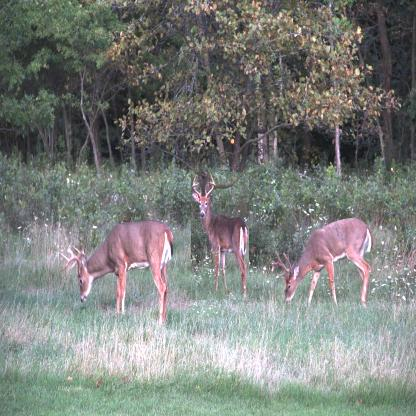Deer: (57, 214, 175, 330), (270, 216, 374, 310), (191, 172, 249, 300)
